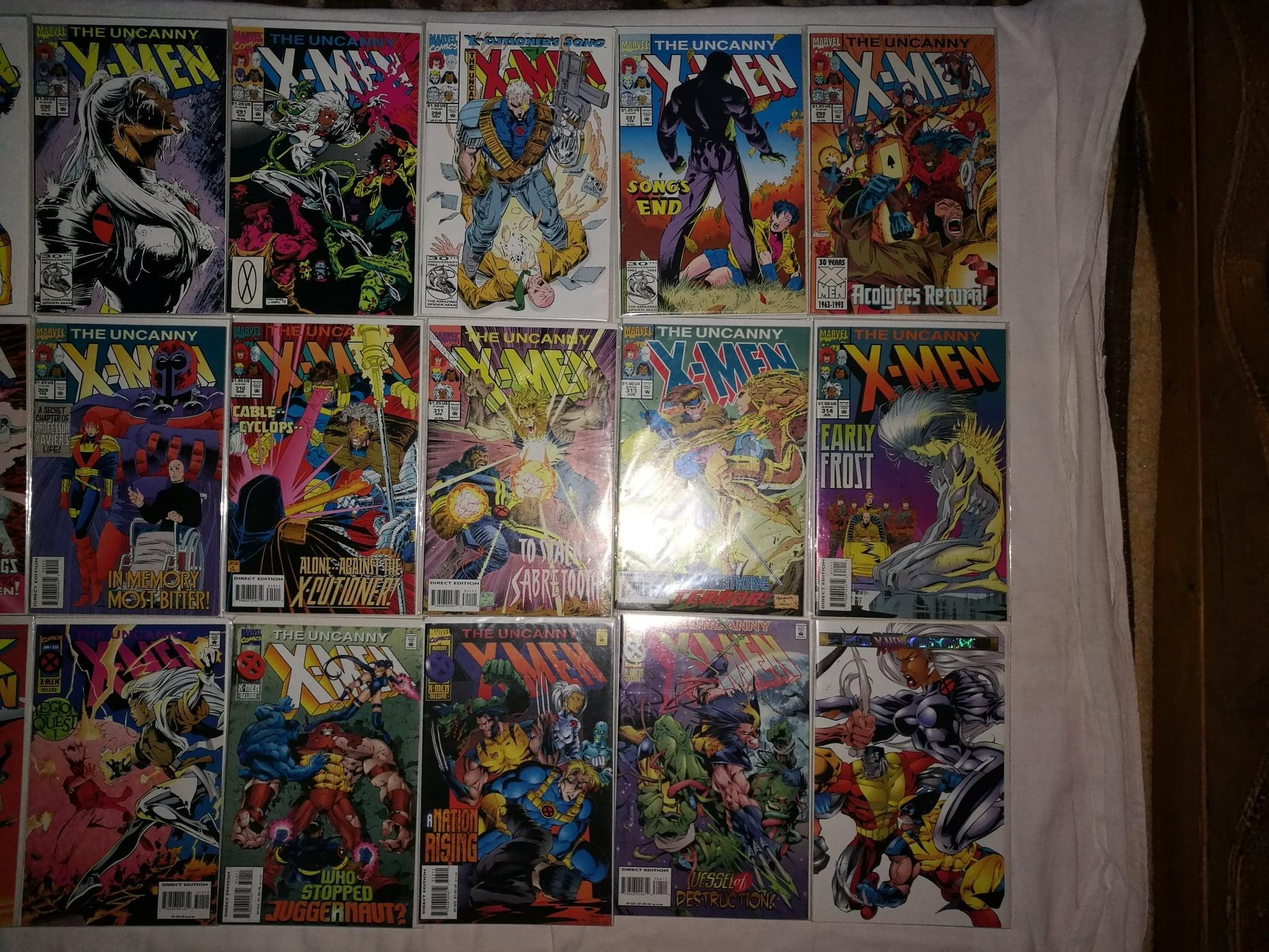comic: (22, 618, 228, 931), (220, 617, 423, 928), (418, 616, 617, 924), (614, 614, 813, 919), (26, 318, 227, 617), (813, 621, 1009, 927), (224, 318, 423, 616), (421, 23, 619, 320), (422, 322, 619, 617), (30, 19, 226, 315), (814, 323, 1007, 621), (616, 320, 811, 614), (228, 22, 420, 316), (806, 28, 1000, 314), (618, 28, 806, 315), (0, 17, 34, 314), (0, 319, 28, 614), (0, 624, 27, 927)
